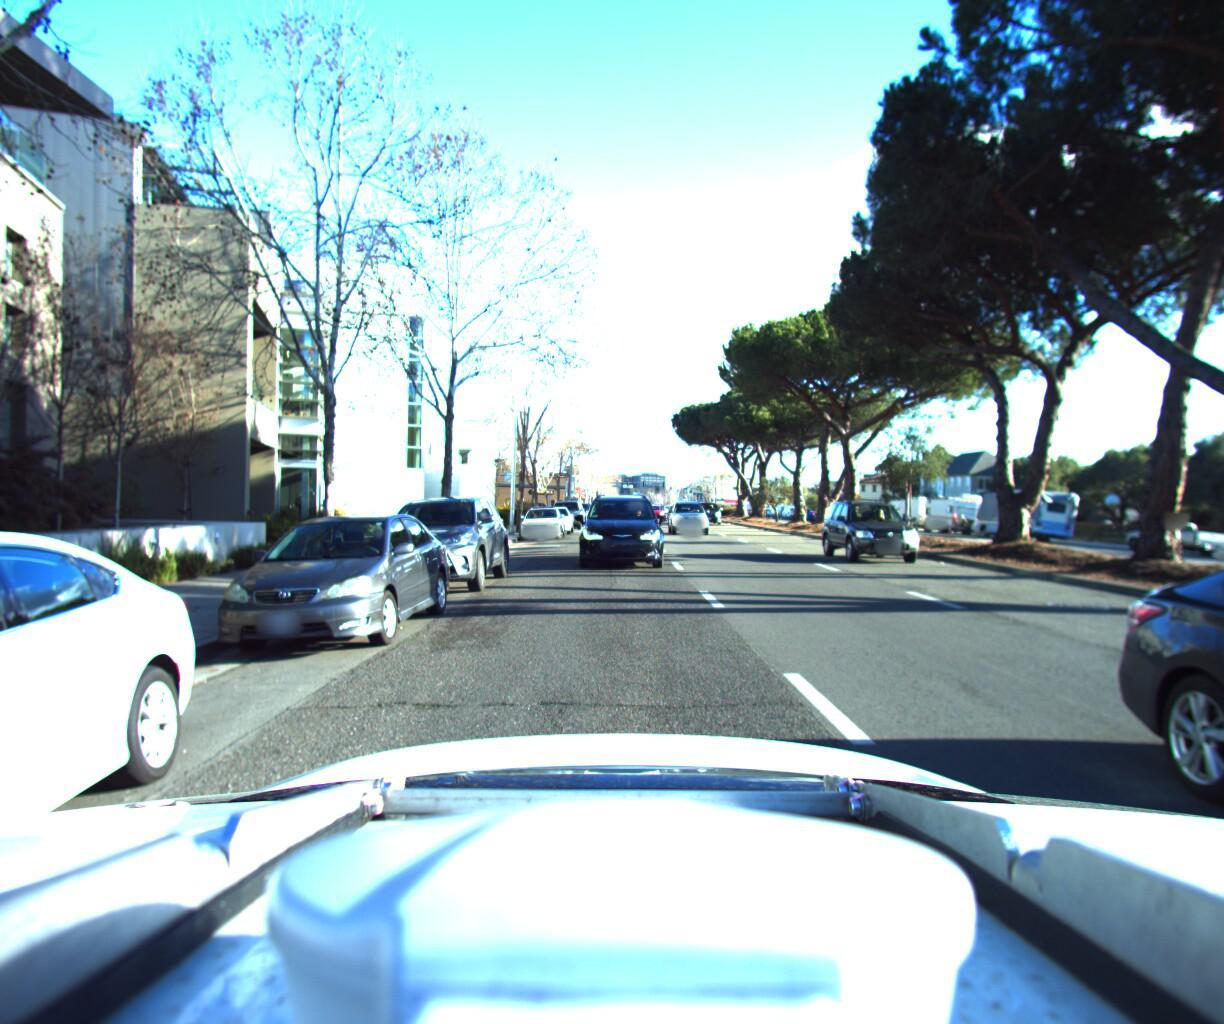car: (0, 510, 232, 1024), (183, 503, 460, 662), (355, 485, 512, 601), (821, 481, 951, 564), (574, 482, 663, 569), (1118, 511, 1224, 552), (512, 499, 568, 538), (669, 493, 717, 532), (531, 499, 578, 532), (547, 493, 587, 526), (693, 494, 727, 519), (642, 494, 666, 513)
other_vehicle: (971, 482, 1083, 538), (915, 485, 994, 533), (883, 489, 950, 526)
